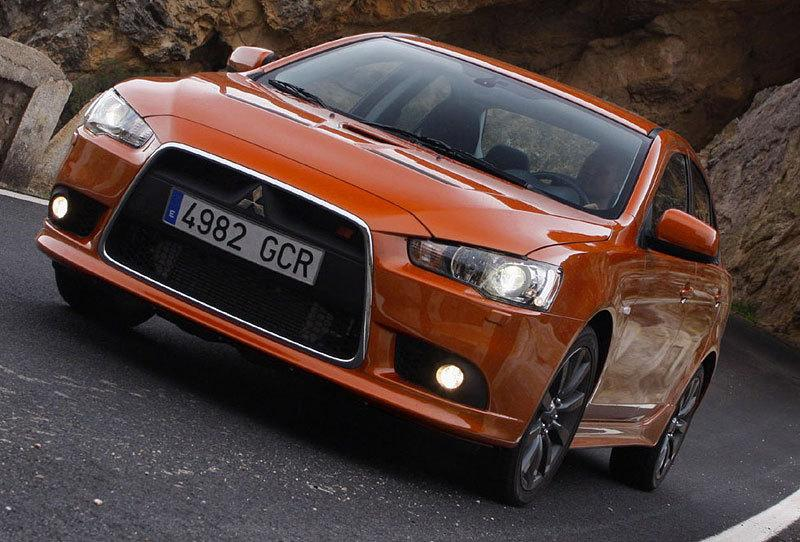Mitsubishi: (232, 174, 278, 228)
